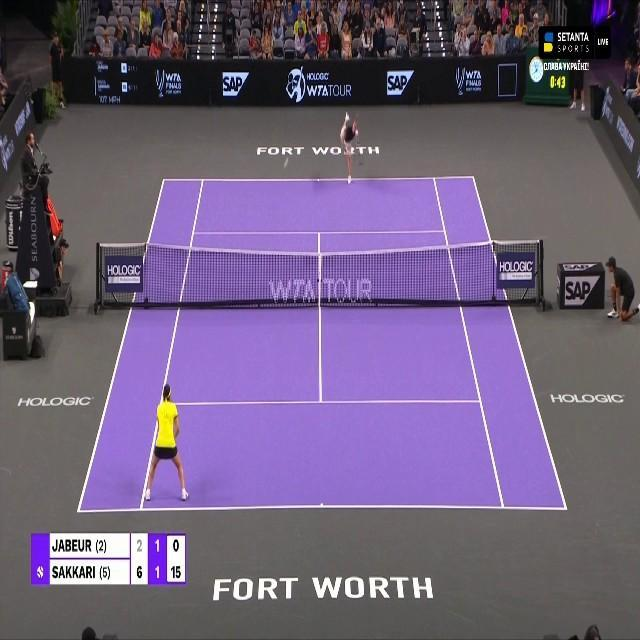left side: (434, 178, 567, 510), (77, 179, 203, 511)
player: (144, 382, 188, 501), (336, 112, 359, 184)
